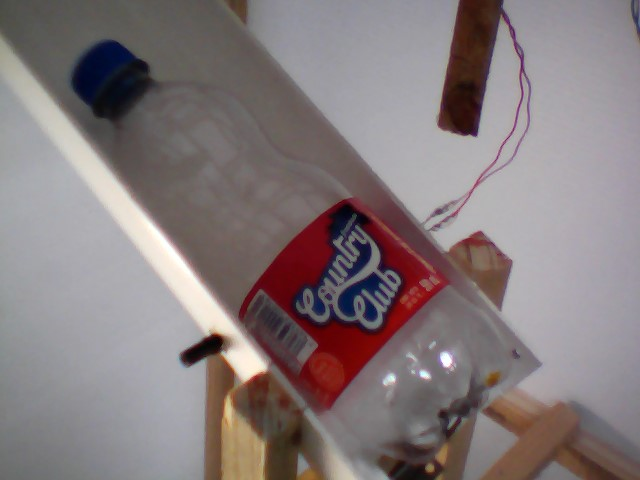plastico: (62, 38, 515, 480)
